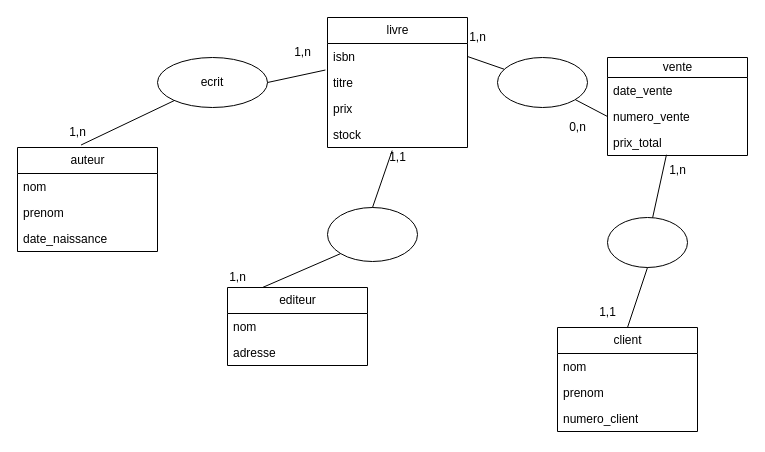
Some shapes in this 765 by 452 pixel diagram are drawn without their labels. Each missing label, with the box of its shape:
compose: (496, 56, 588, 108)
edite: (326, 206, 418, 262)
passe: (606, 216, 688, 268)
